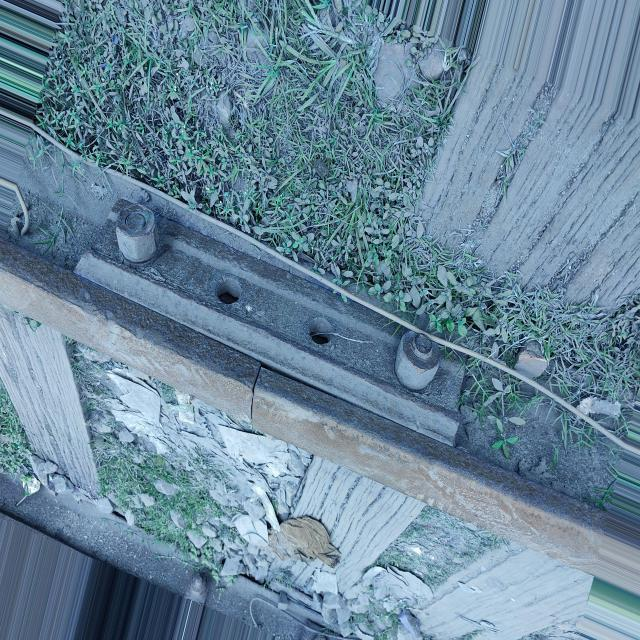Defective Joint: (75, 199, 464, 445)
